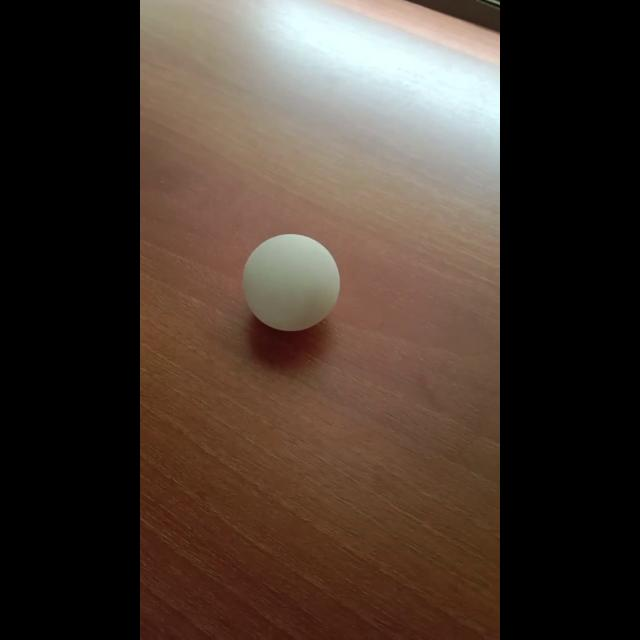white ball: (242, 232, 340, 332)
